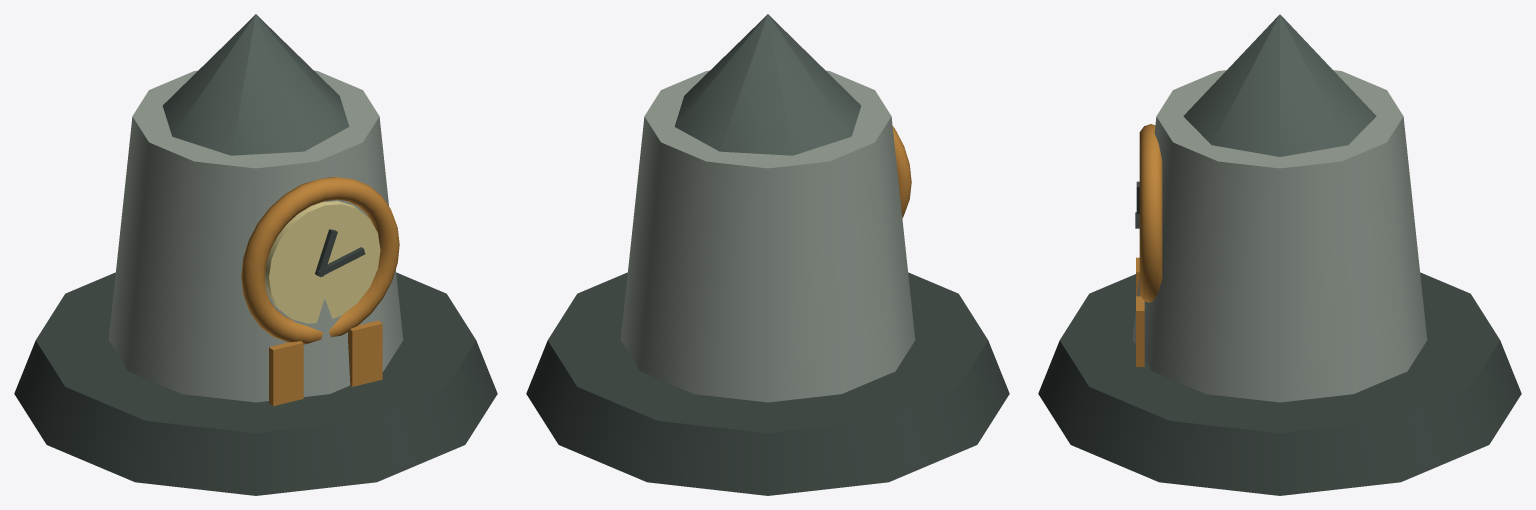
File: clock_core.glb
3 renders of one model, left to right at view 1: azimuth 30°, elevation 25°; view 2: azimuth 150°, elevation 25°; view 3: azimuth 270°, elevation 25°, orthographic.
Visible parts, largest first — view 1: base, tower, spire, clock_face, clock_ring, door_side_-1, door_side_1; view 2: tower, base, spire, clock_ring; view 3: tower, base, spire, clock_ring, door_side_1.
Part boxes in pixels (left/top/right/bottom): base: left=14, top=272, right=497, bottom=495; tower: left=108, top=70, right=403, bottom=402; spire: left=162, top=14, right=349, bottom=155; clock_face: left=265, top=201, right=380, bottom=323; clock_ring: left=241, top=177, right=399, bottom=344; door_side_-1: left=269, top=341, right=303, bottom=406; door_side_1: left=348, top=320, right=382, bottom=386; tower: left=620, top=70, right=915, bottom=402; base: left=526, top=272, right=1009, bottom=495; spire: left=674, top=14, right=861, bottom=155; clock_ring: left=892, top=126, right=911, bottom=218; tower: left=1132, top=70, right=1427, bottom=402; base: left=1038, top=272, right=1521, bottom=495; spire: left=1183, top=14, right=1376, bottom=156; clock_ring: left=1139, top=124, right=1162, bottom=302; door_side_1: left=1136, top=296, right=1144, bottom=366.
Bounding box in the file's own units: 9 × 7.8 × 9.
